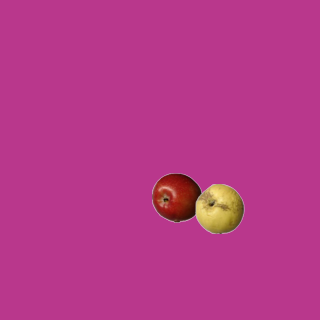Apple Braeburn: (151, 172, 201, 222)
Apple Golden 1: (194, 183, 244, 233)
